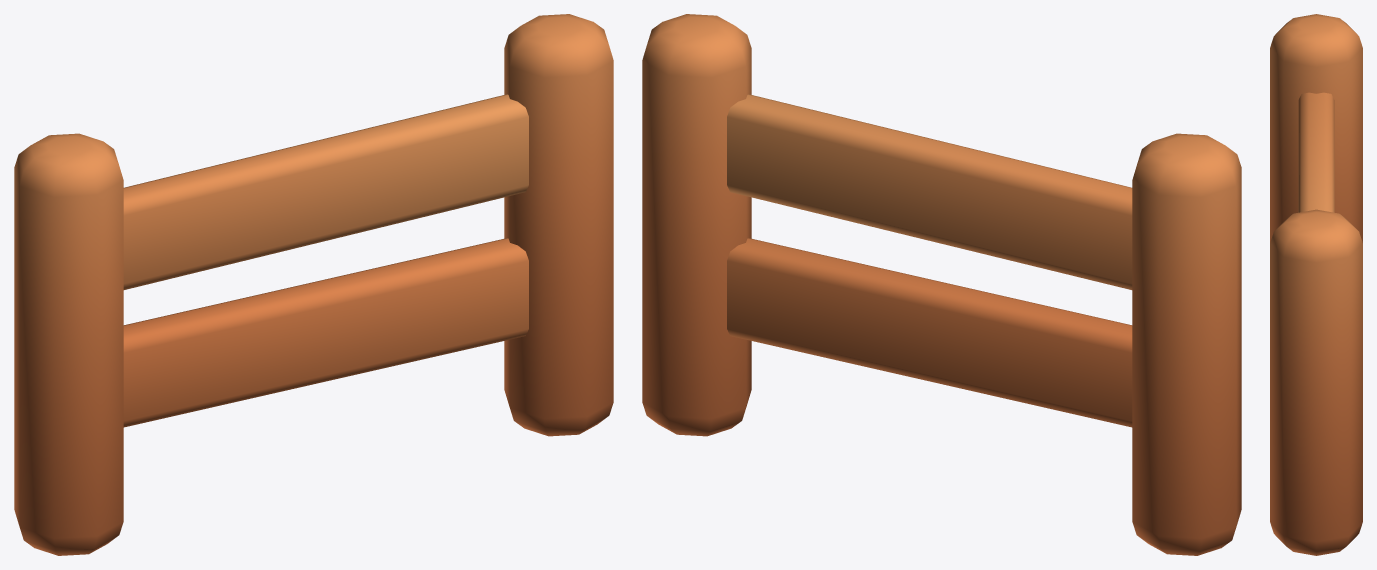
Rendered from rail 00.fbx.
The picture shows the model from 3 angles, left to right: view 1: azimuth 30°, elevation 25°; view 2: azimuth 150°, elevation 25°; view 3: azimuth 270°, elevation 25°; orthographic projection. The views are drawn at different scales.
Parts seen in each view (by area): view 1: rail00; view 2: rail00; view 3: rail00.
Part boxes in pixels (x1,y1,x2,y2): rail00: (14, 14, 613, 555); rail00: (642, 14, 1241, 555); rail00: (1270, 14, 1362, 555).
Size of the model in its own units: 1.99 by 1.28 by 0.3318.
1 material, 1 textured.
